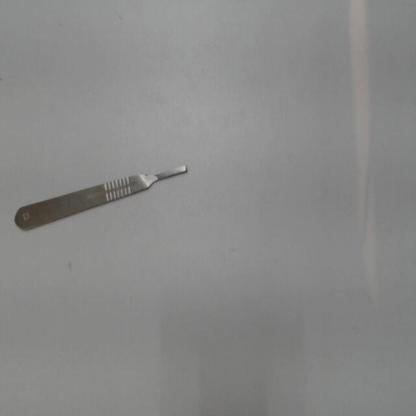No.4 BP Handle: (6, 133, 202, 241)
